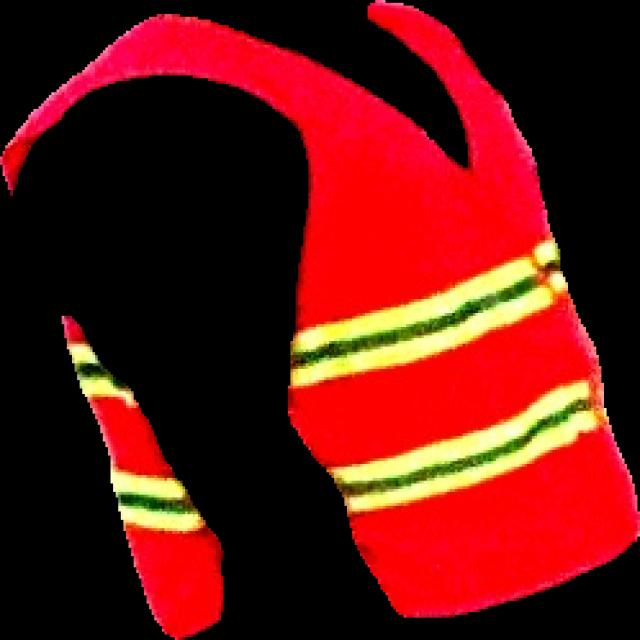Colete: (0, 0, 639, 617)
